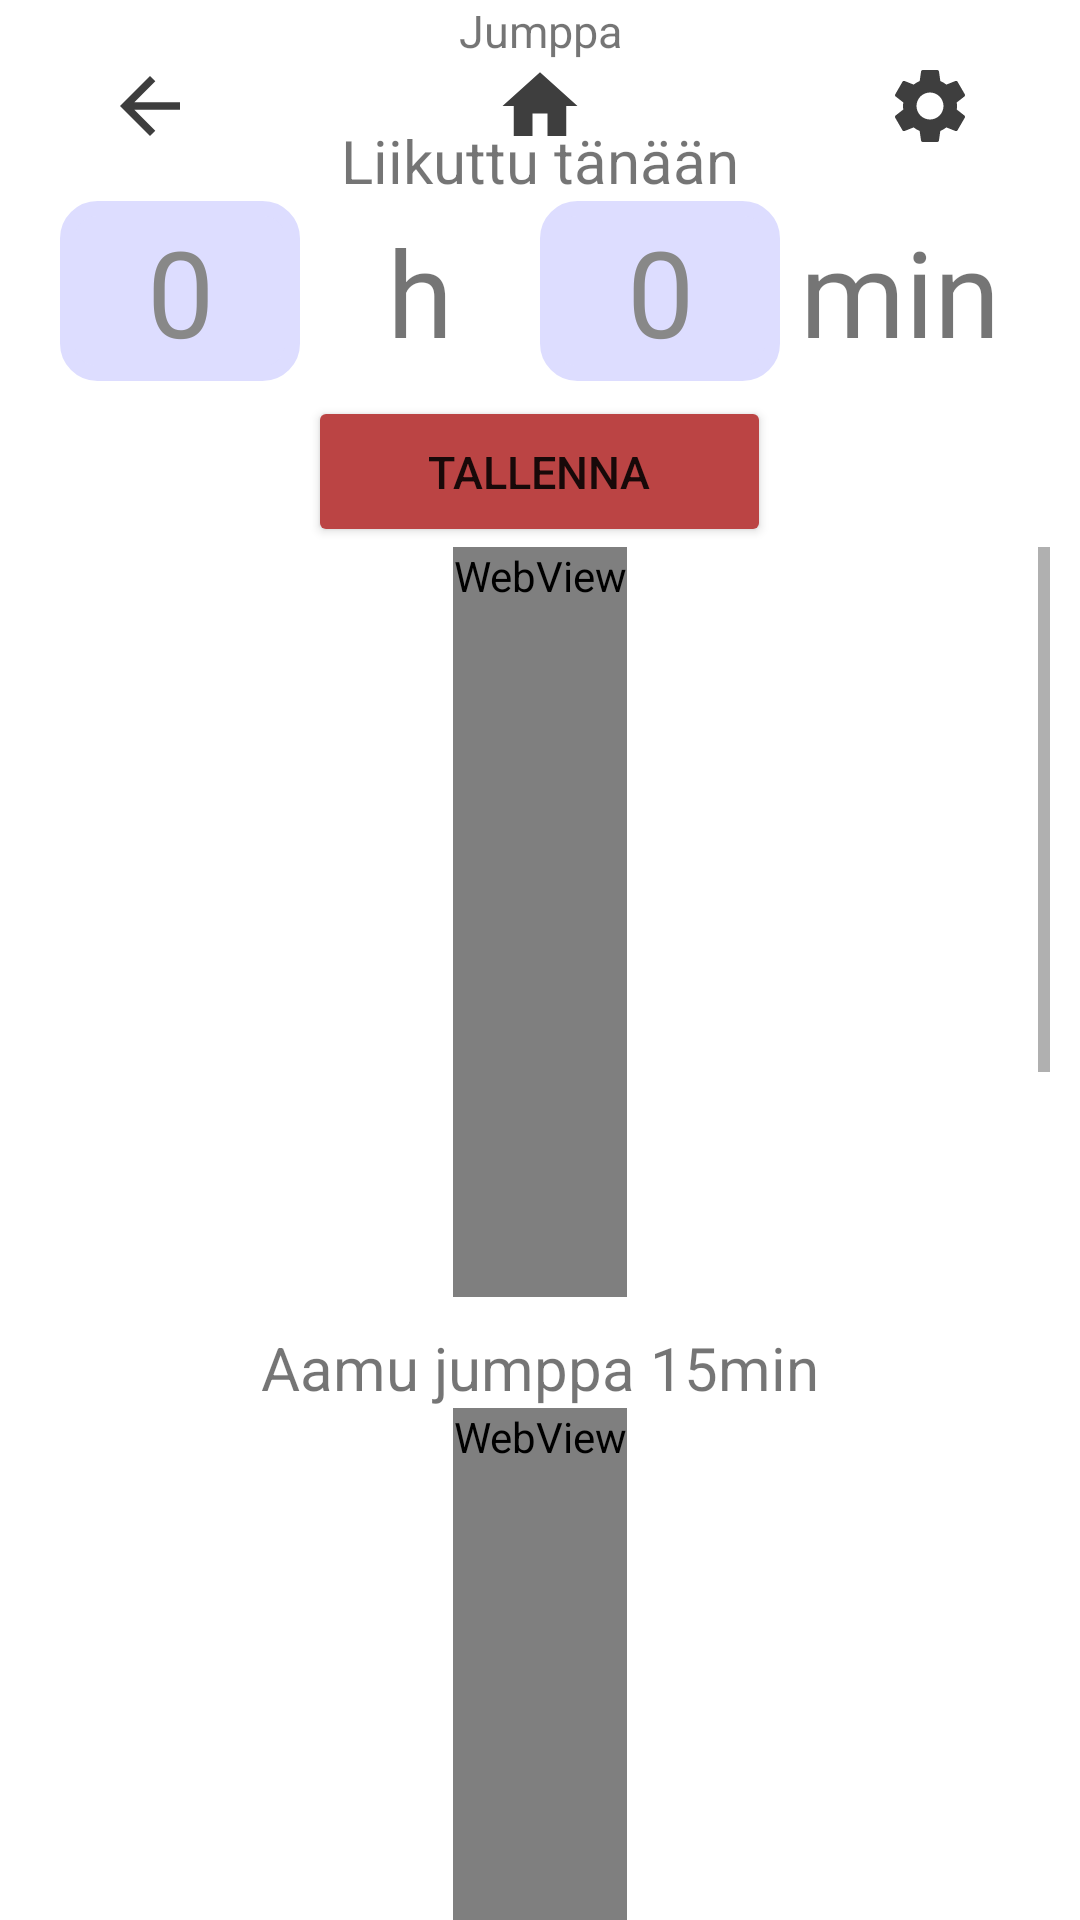

Named icons in this screenshot (1080px x 1920px) and their bounding boxes, [left=x1, top=y1, right=x2, bottom=y2]:
Asetukset: [left=895, top=70, right=965, bottom=142]
Koti: [left=503, top=72, right=585, bottom=147]
Takaisin: [left=120, top=76, right=180, bottom=136]
